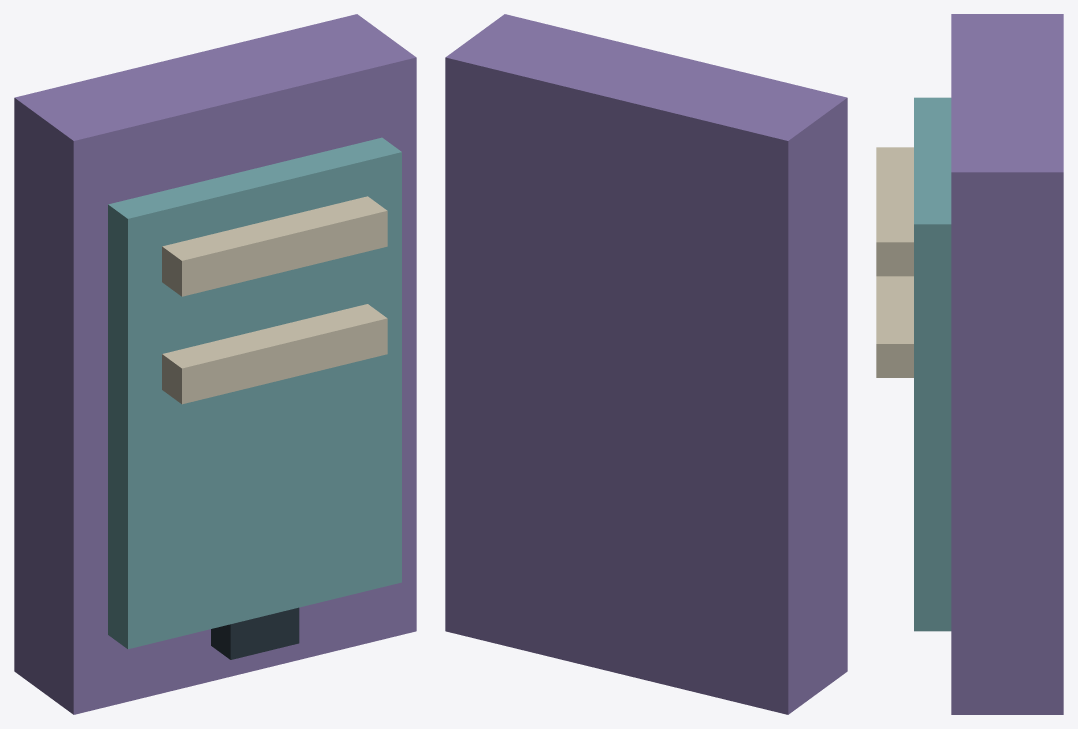
The model's file is software-16.glb.
The picture shows the model from 3 angles, left to right: view 1: azimuth 30°, elevation 25°; view 2: azimuth 150°, elevation 25°; view 3: azimuth 270°, elevation 25°; orthographic projection. The views are drawn at different scales.
Visible parts, largest first — view 1: Design tablet; view 2: Design tablet; view 3: Design tablet.
Boxes of the visible parts, x1,y1,x2,y2 form: Design tablet: (14, 14, 416, 714); Design tablet: (445, 14, 847, 714); Design tablet: (876, 14, 1063, 714).
Bounding box in the file's own units: 0.8 × 1.28 × 0.4.
